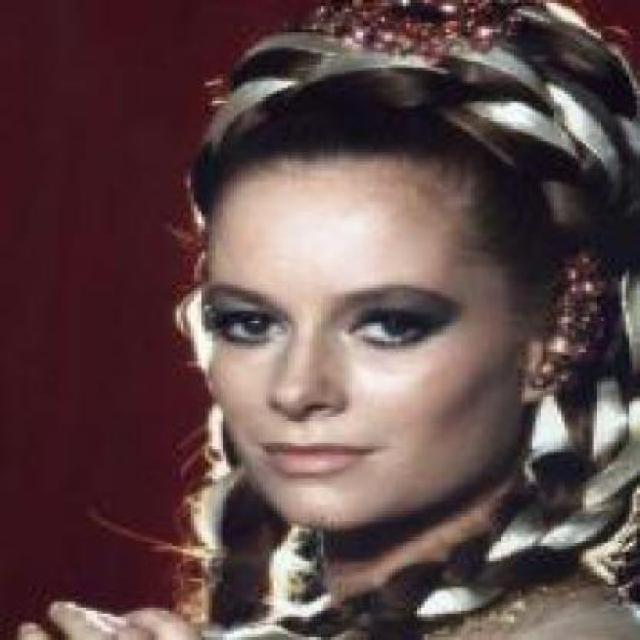closed-mouth: (262, 438, 362, 477)
